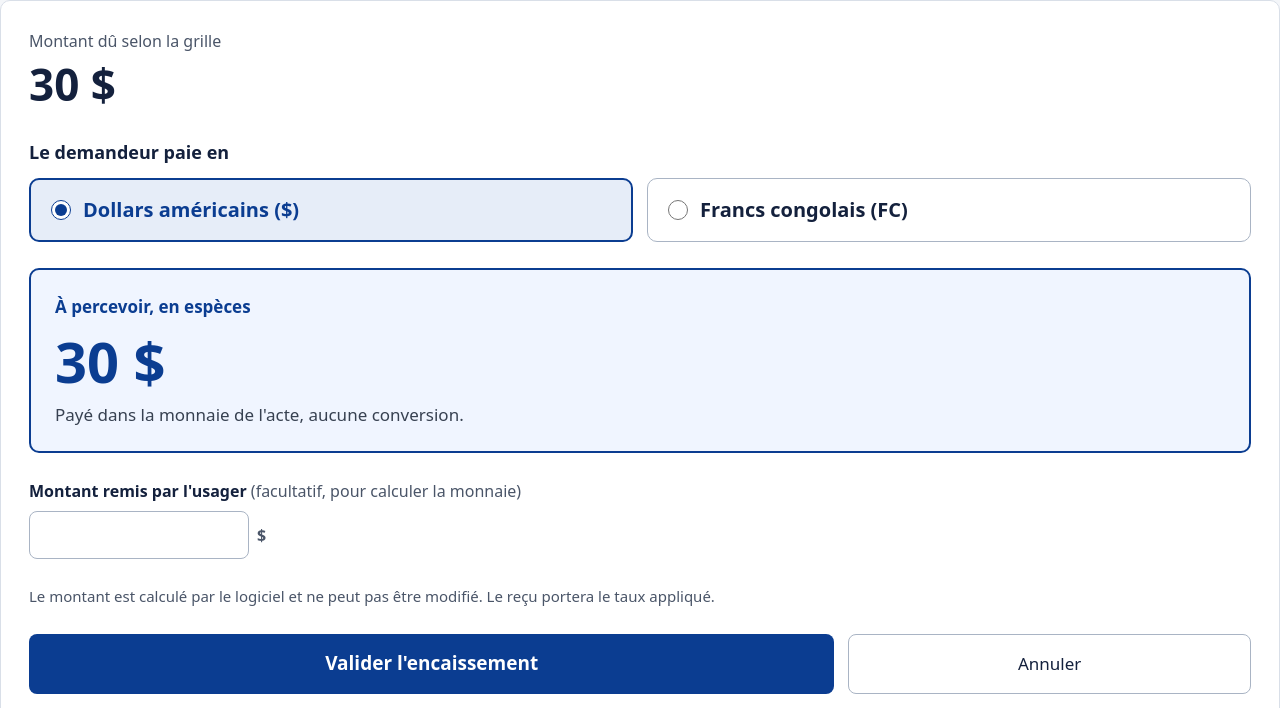
it: Encaissement d'un acte en dollars › taux changé entre-temps : message de la base, écran relu
Click the radio button labelled "Francs congolais (FC)" at [678, 210], box [668, 200, 688, 220]
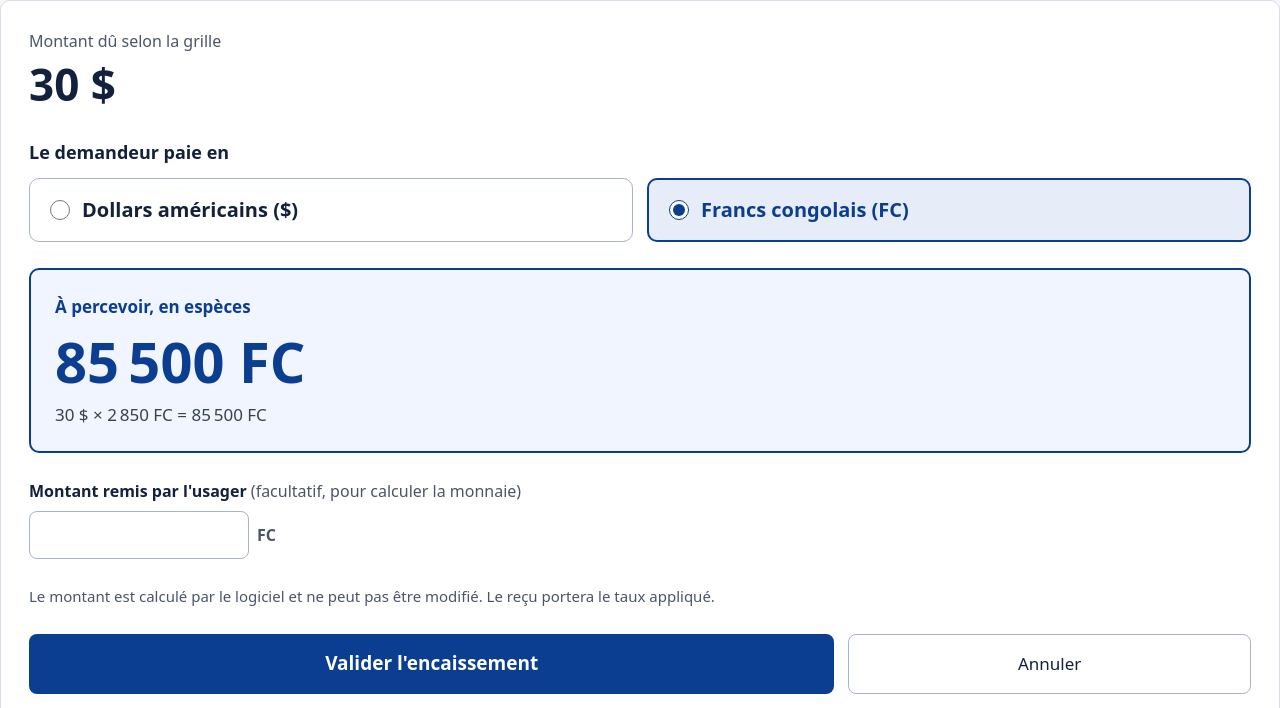
Click the button "Valider l'encaissement" at [432, 664], box [29, 634, 834, 694]
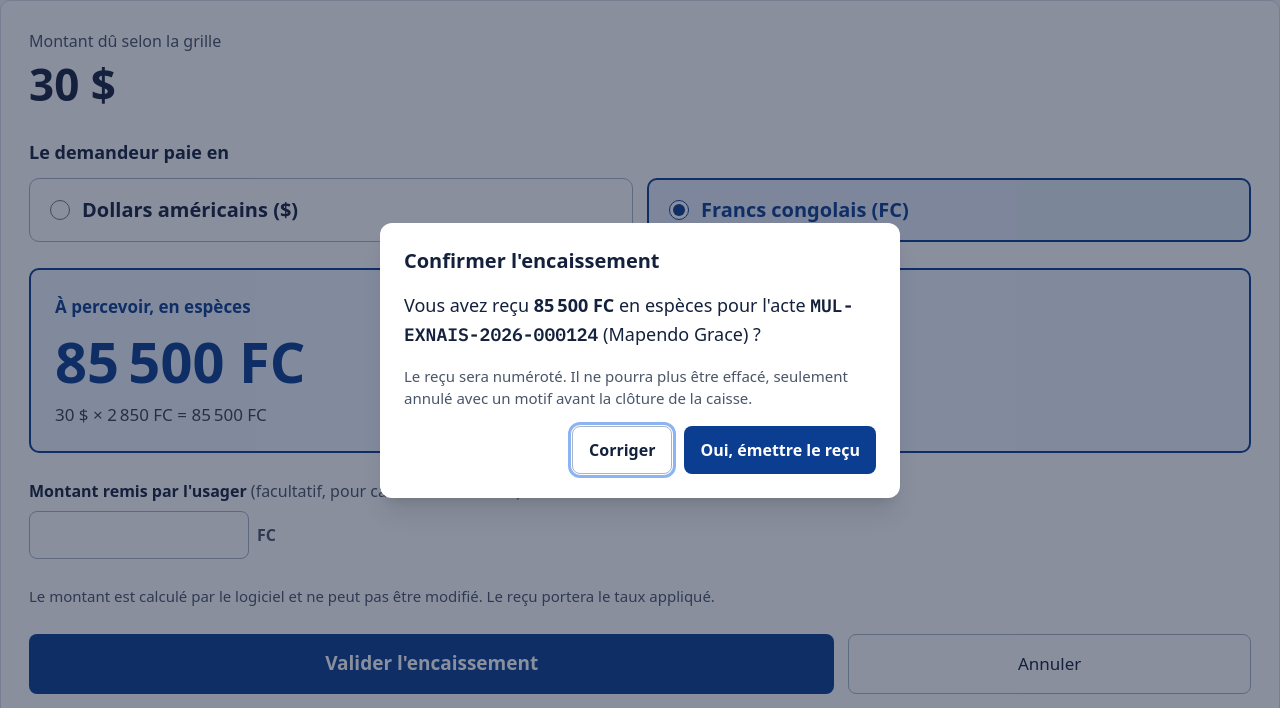
Click the button "Oui, émettre le reçu" at [780, 450], box [684, 426, 876, 474]
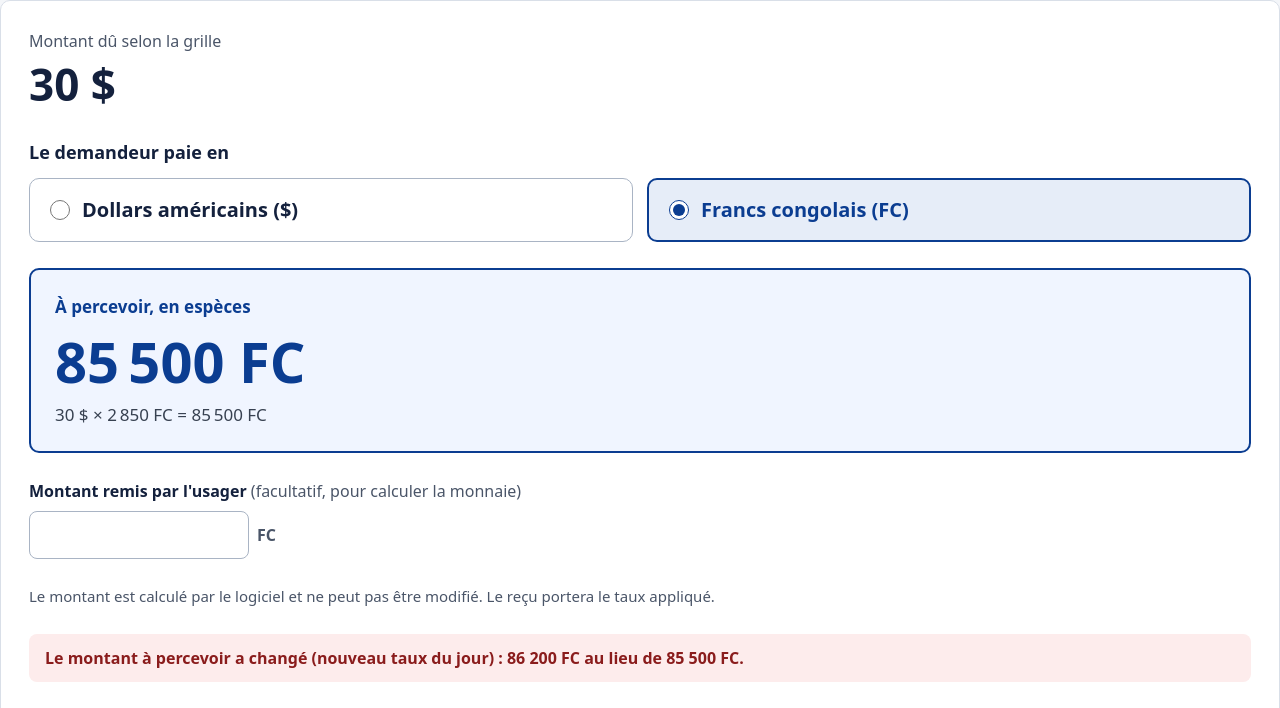
Expected: the message with test id "erreur-encaissement" shows "Le montant à percevoir a changé", [45, 646, 744, 668]
Expected: the dialog is gone
